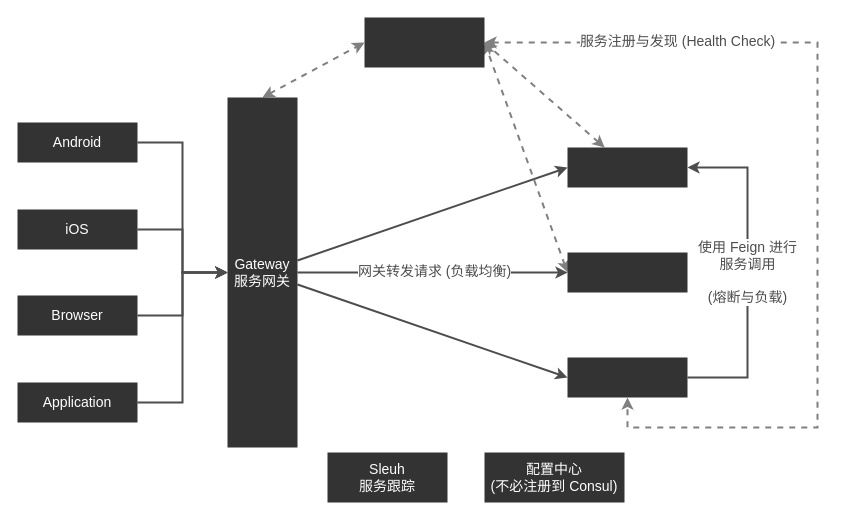
Some shapes in this 844 by 519 pixel diagram are drawn without their labels. The shapes that lost their labels are listed below. From the top down, each one's box as (x1, y1, x2, y2) in pixels, then its label:
(364, 17, 484, 67): Consul 服务治理
(567, 147, 687, 187): User Service
(567, 252, 687, 292): Exam Service
(567, 357, 687, 397): Order Service
